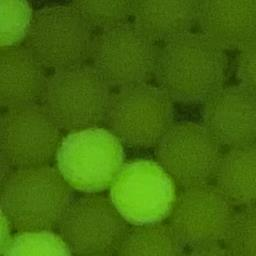negative: (154, 29, 226, 104), (45, 61, 114, 131), (107, 81, 175, 149), (58, 192, 130, 256), (0, 165, 68, 230), (86, 26, 156, 85), (153, 120, 223, 179), (1, 104, 62, 169), (171, 185, 234, 247), (28, 7, 94, 65), (202, 86, 256, 145), (199, 0, 256, 52), (0, 47, 47, 105), (215, 146, 256, 205), (135, 0, 201, 35), (118, 225, 189, 256), (224, 200, 256, 256), (75, 0, 141, 27), (230, 45, 256, 86), (185, 241, 231, 256)
positive: (57, 124, 126, 197), (111, 162, 181, 228), (5, 227, 76, 256), (0, 0, 35, 50), (0, 207, 14, 256)
